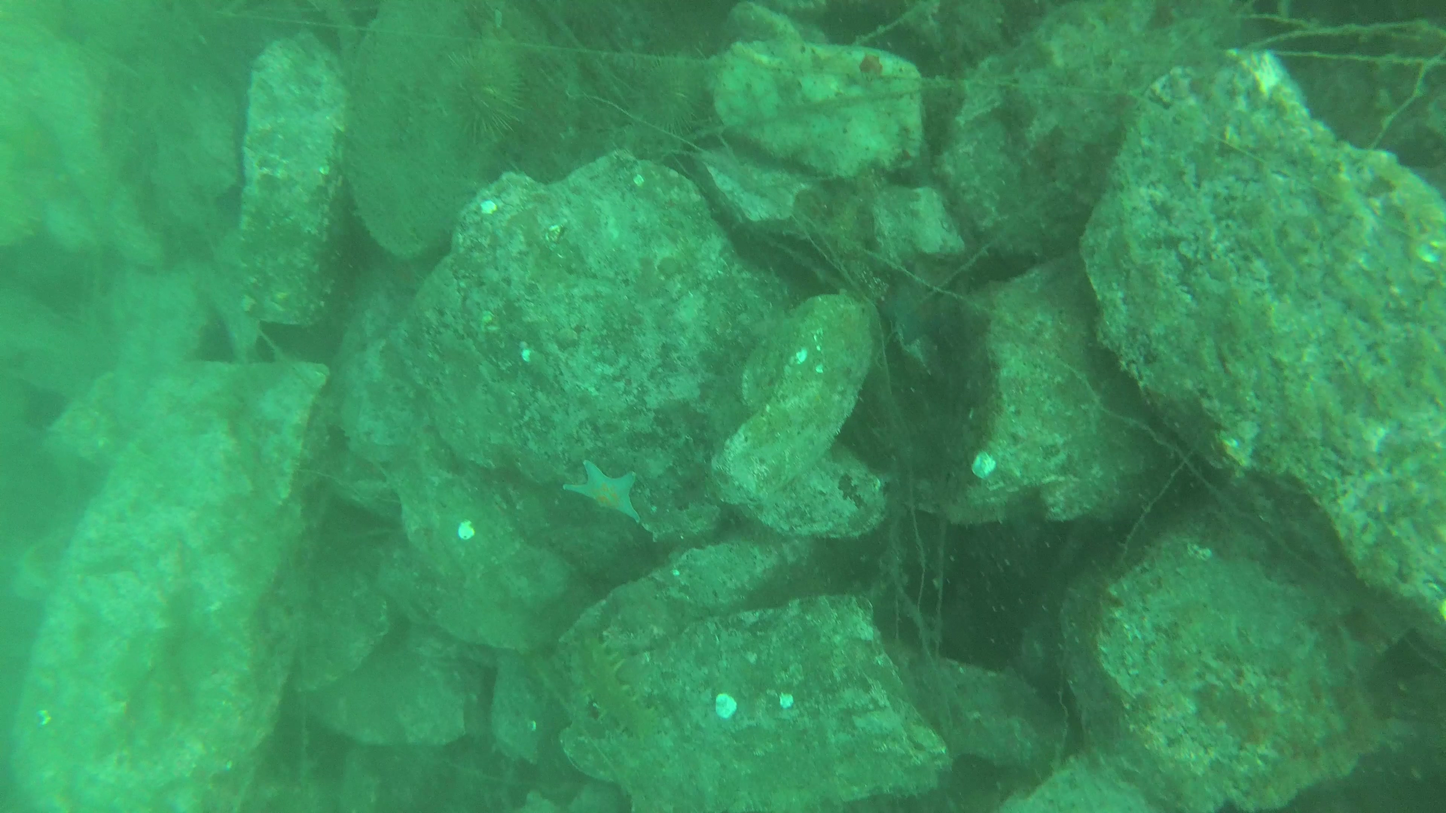echinus: (563, 632, 657, 750)
holothurian: (874, 264, 947, 367), (555, 457, 650, 528)
starfish: (415, 38, 521, 157), (624, 43, 704, 167)
